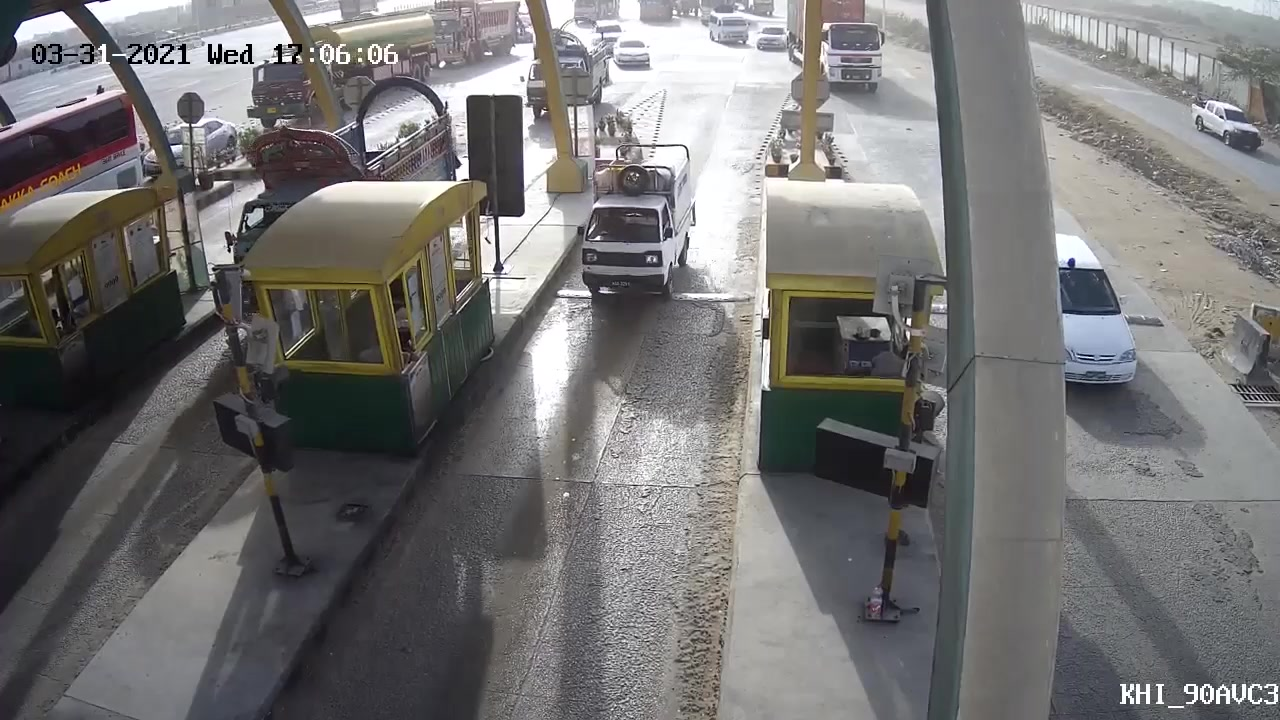F1: (581, 136, 705, 324)
